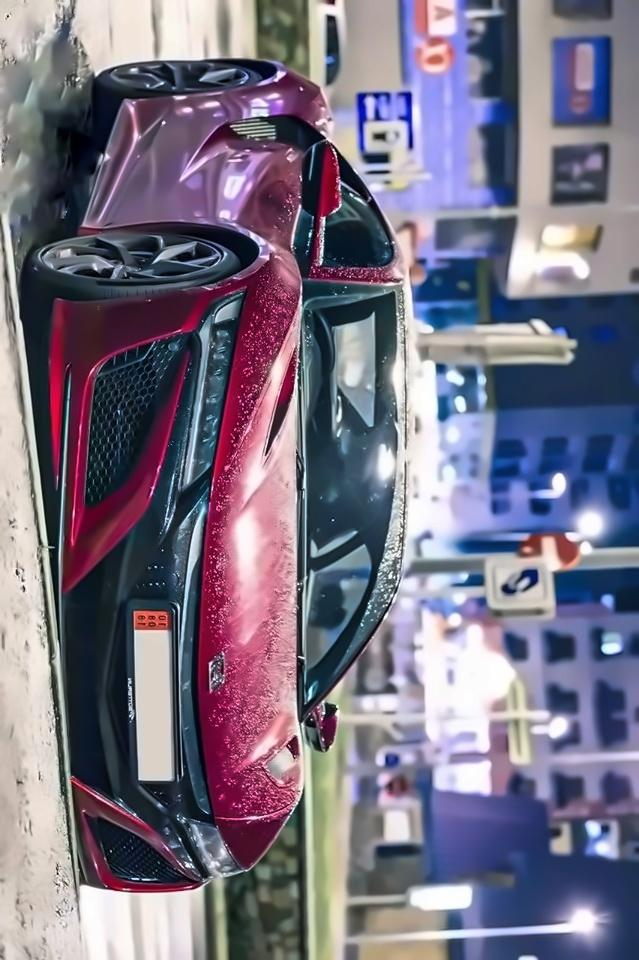Car hood: (187, 239, 312, 856)
Driver-s door - -F-R-: (66, 99, 444, 280)
Front bumper: (35, 289, 226, 903)
Headlight - -L-: (169, 812, 249, 884)
Headlight - -R-: (163, 284, 249, 546)
Side bumper - -R-: (59, 90, 172, 241)
Side mirror - -R-: (289, 136, 346, 274)
